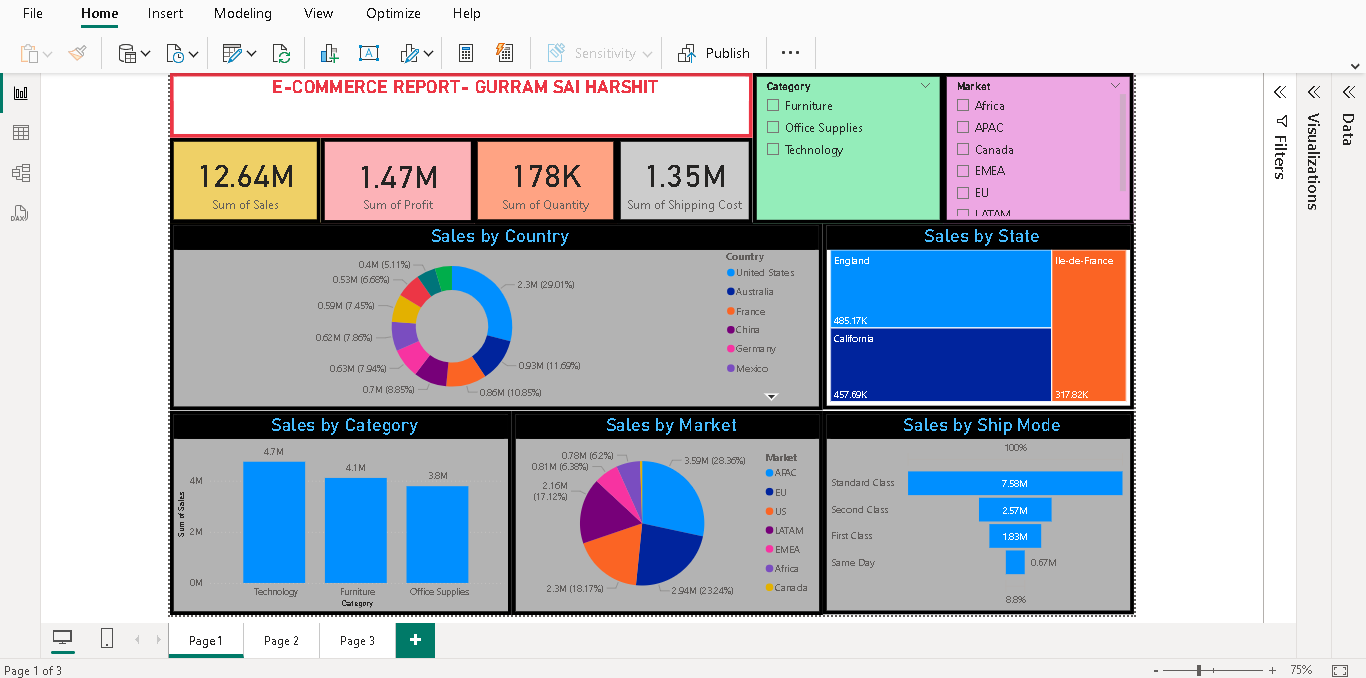

What the dashboard file says about the page in this screenshot:
{"tool":"powerbi","page":{"name":"Page 1","canvas":[1280,720],"ordinal":0},"visuals":[{"type":"columnChart","title":"Sales by Category","fields":{"Category":["Orders.Category"],"Y":["Orders.Sales"]},"box":[0,448.6,454.3,271.4],"z":0},{"type":"pieChart","title":"Sales by Market","fields":{"Y":["Orders.Sales"],"Category":["Orders.Market"]},"box":[454.3,448.6,412.9,271.4],"z":1000},{"type":"funnel","title":"Sales by Ship Mode","fields":{"Y":["Orders.Sales"],"Category":["Orders.Ship Mode"]},"box":[867.1,448.6,412.9,270],"z":2000},{"type":"donutChart","title":"Sales by Country","fields":{"Category":["Orders.Country"],"Y":["Orders.Sales"]},"box":[0,198.6,867.1,250],"z":3000},{"type":"treemap","title":"Sales by State","fields":{"Values":["Orders.Sales"],"Group":["Orders.State"]},"box":[867.1,198.6,412.9,248.6],"z":4000},{"type":"card","fields":{"Values":["Orders.Sales"]},"box":[0,85.7,200,112.9],"z":5000},{"type":"card","fields":{"Values":["Orders.Profit"]},"box":[200,85.7,204.3,114.3],"z":6000},{"type":"card","fields":{"Values":["Orders.Quantity"]},"box":[404.3,85.7,190,112.9],"z":7000},{"type":"card","fields":{"Values":["Orders.Shipping Cost"]},"box":[594.3,85.7,180,112.9],"z":8000},{"type":"slicer","fields":{"Values":["Orders.Category"]},"box":[774.3,0,252.9,200],"z":9000},{"type":"slicer","fields":{"Values":["Orders.Market"]},"box":[1027.1,0,252.9,200],"z":10000},{"type":"textbox","title":"E-COMMERCE REPORT- GURRAM SAI HARSHIT","box":[0,0,774.3,85.7],"z":11000}]}

Visuals, with their boxes on the page's 1280x720 design canvas (x1, y1, x2, y2). These are canvas units, not pixel positions in the 1366x678 screenshot, which may show the page scaled, cropped or inside an application window:
"Sales by Category" columnChart: {"left": 0, "top": 449, "right": 454, "bottom": 720}
"Sales by Market" pieChart: {"left": 454, "top": 449, "right": 867, "bottom": 720}
"Sales by Ship Mode" funnel: {"left": 867, "top": 449, "right": 1280, "bottom": 719}
"Sales by Country" donutChart: {"left": 0, "top": 199, "right": 867, "bottom": 449}
"Sales by State" treemap: {"left": 867, "top": 199, "right": 1280, "bottom": 447}
card - Orders.Sales: {"left": 0, "top": 86, "right": 200, "bottom": 199}
card - Orders.Profit: {"left": 200, "top": 86, "right": 404, "bottom": 200}
card - Orders.Quantity: {"left": 404, "top": 86, "right": 594, "bottom": 199}
card - Orders.Shipping Cost: {"left": 594, "top": 86, "right": 774, "bottom": 199}
slicer - Orders.Category: {"left": 774, "top": 0, "right": 1027, "bottom": 200}
slicer - Orders.Market: {"left": 1027, "top": 0, "right": 1280, "bottom": 200}
"E-COMMERCE REPORT- GURRAM SAI HARSHIT" textbox: {"left": 0, "top": 0, "right": 774, "bottom": 86}
